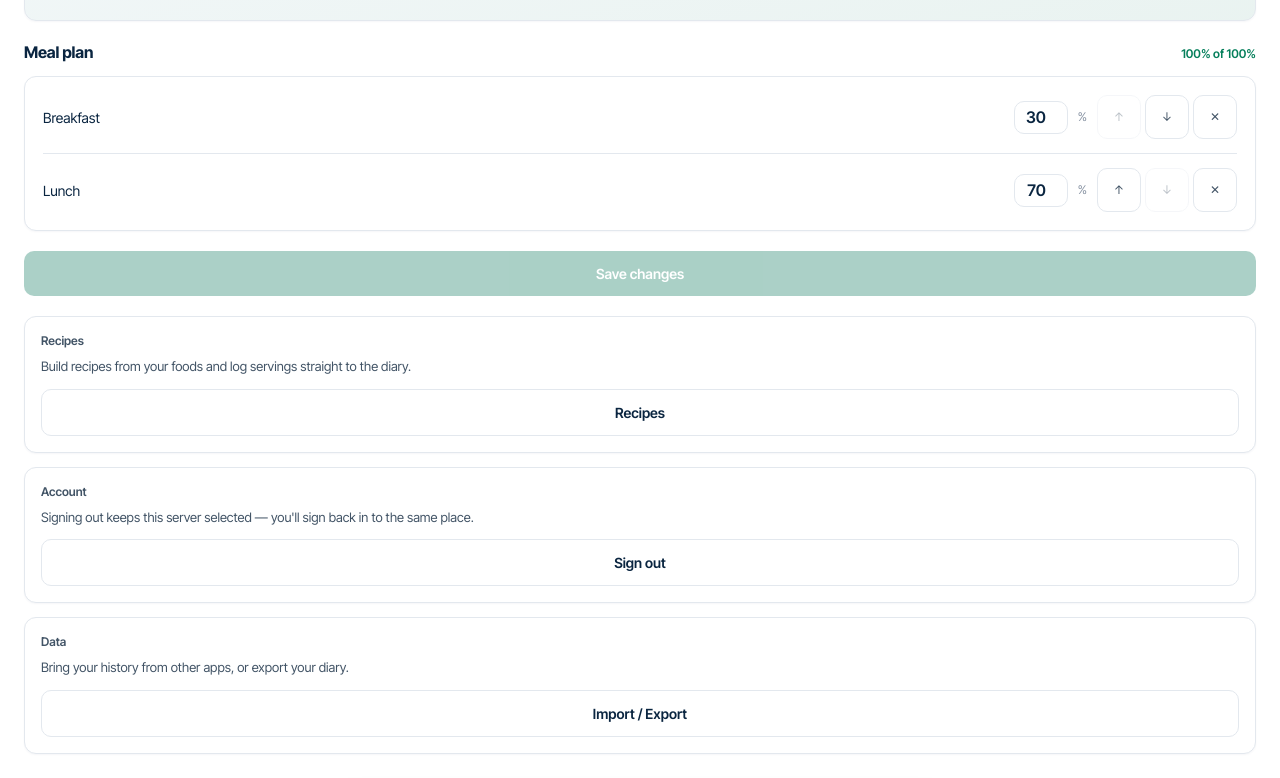
it: ProfileGoals — signing out › confirms before signing out
(page scrolled)
What coordinates should you click on to do the following:
click the button "Sign out"
I would click on:
 (640, 563)
Its box is top-left (41, 540), bottom-right (1239, 586).
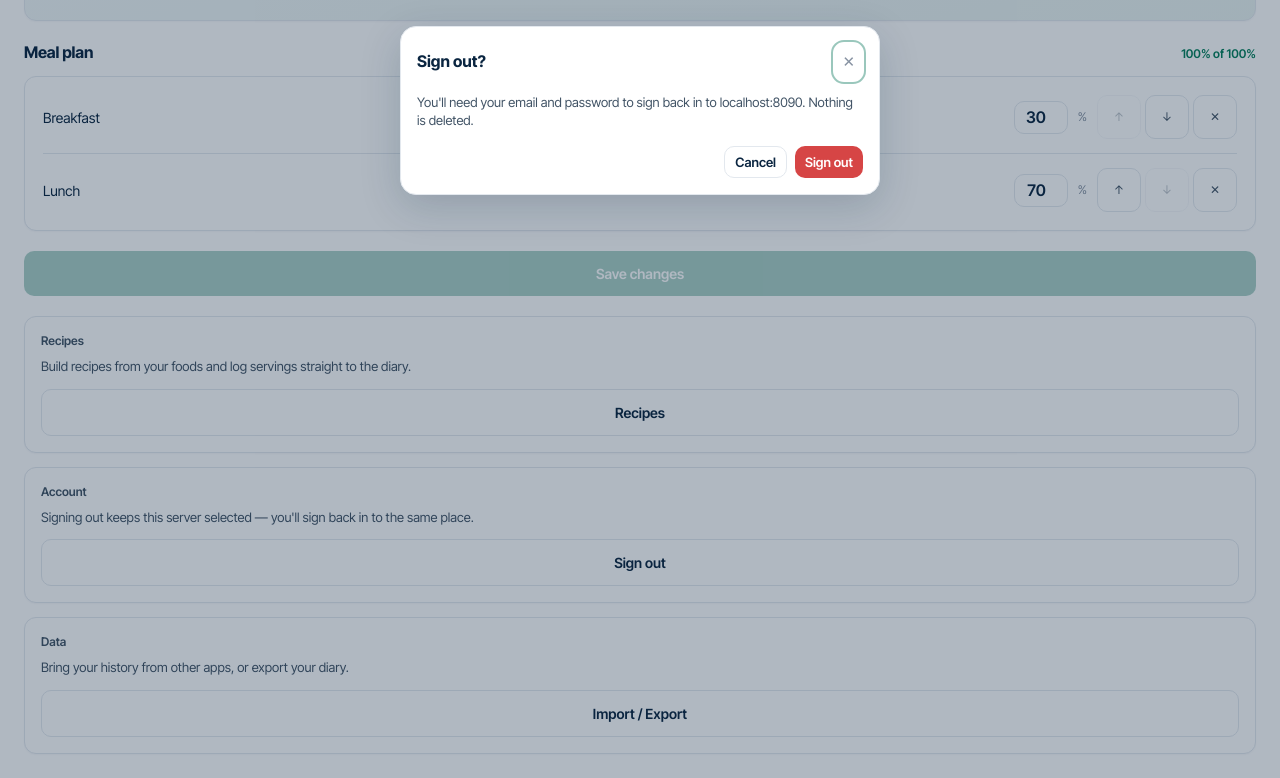
Expected: the dialog is shown, top-left (400, 26), bottom-right (880, 195)
